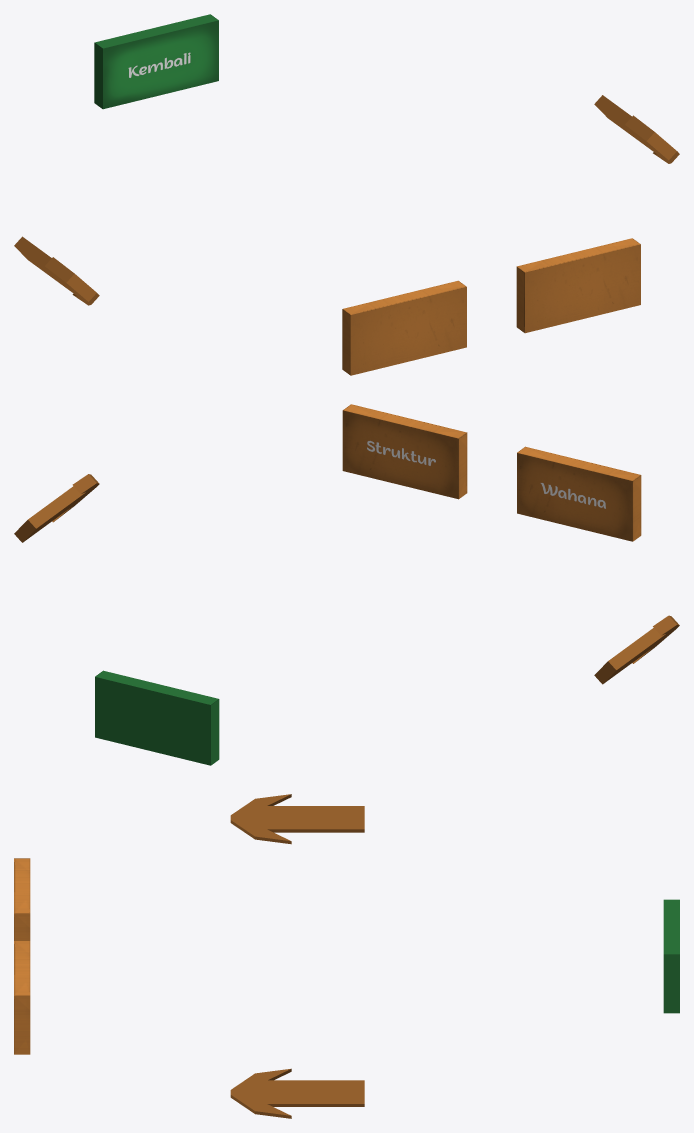
File: Menu Roller.fbx
3 views of the same model, one above another, from view 1: azimuth 30°, elevation 25°; view 2: azimuth 150°, elevation 25°; view 3: azimuth 270°, elevation 25° (orthographic). The views are drawn at different scales.
Parts seen in each view (by area): view 1: Papan.Scatter, Papan.Arrange, Kembali.Menu, Panah2.Menu, Panah1.Menu; view 2: Papan.Arrange, Kembali.Menu, Papan.Scatter, Panah2.Menu, Panah1.Menu; view 3: Panah1.Menu, Panah2.Menu, Kembali.Menu, Papan.Arrange, Papan.Scatter.
Part boxes in pixels (<box>): Papan.Scatter: <box>342,280,466,375</box>; Papan.Arrange: <box>516,238,640,333</box>; Kembali.Menu: <box>94,14,218,109</box>; Panah2.Menu: <box>14,236,99,305</box>; Panah1.Menu: <box>594,95,679,163</box>; Papan.Arrange: <box>342,404,467,499</box>; Kembali.Menu: <box>95,670,219,765</box>; Papan.Scatter: <box>517,446,641,541</box>; Panah2.Menu: <box>594,615,679,684</box>; Panah1.Menu: <box>14,474,99,542</box>; Panah1.Menu: <box>230,1068,364,1118</box>; Panah2.Menu: <box>230,794,364,844</box>; Kembali.Menu: <box>663,899,679,1013</box>; Papan.Arrange: <box>14,941,30,1054</box>; Papan.Scatter: <box>14,858,30,940</box>.
Bounding box in the file's own units: 1062 × 100 × 1025.
